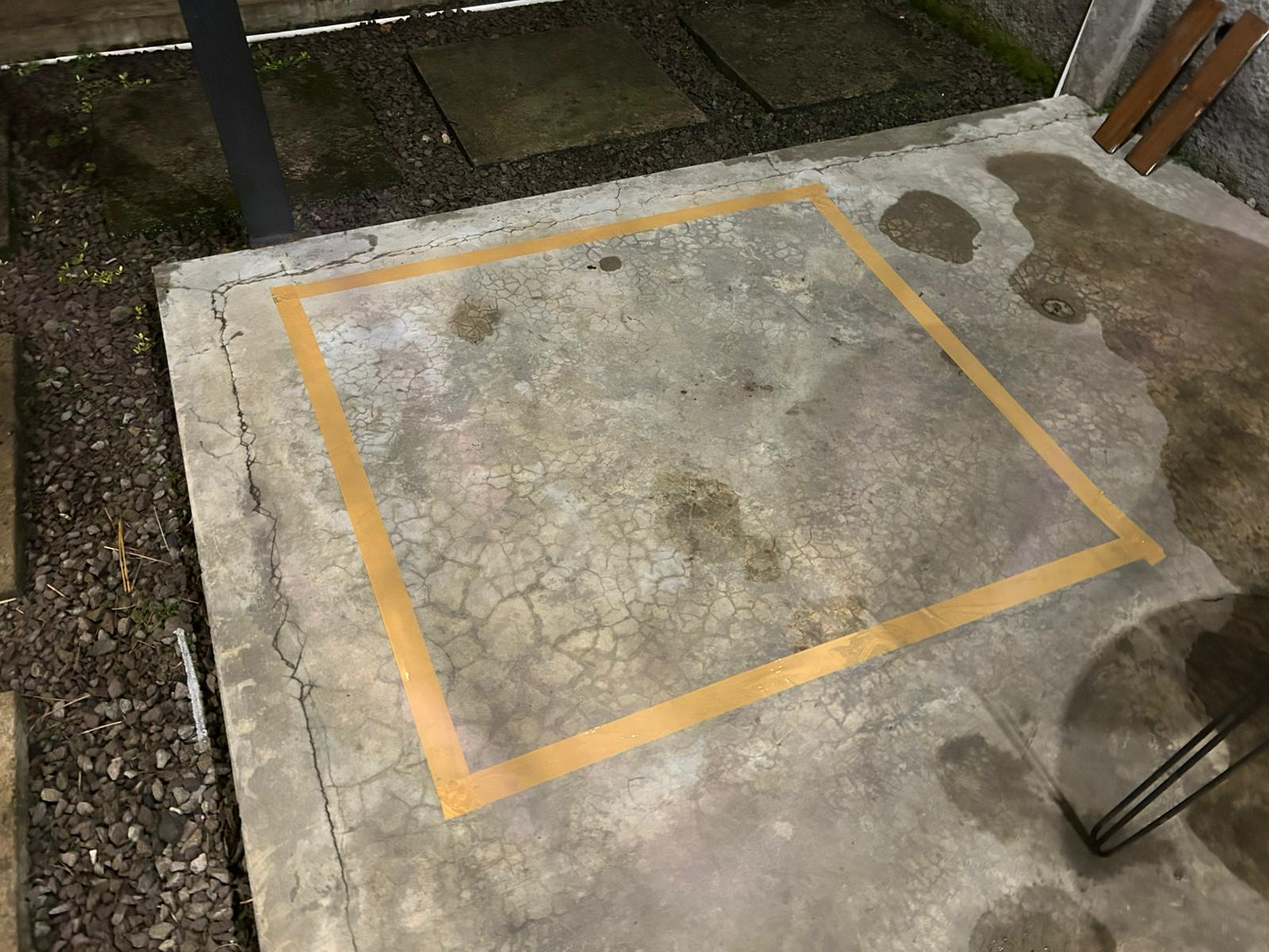floor marking: (270, 185, 1164, 818)
